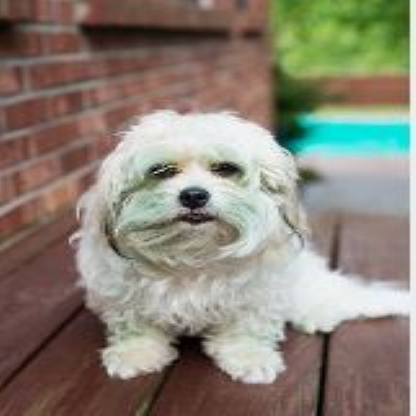maltese: (70, 107, 381, 366)
